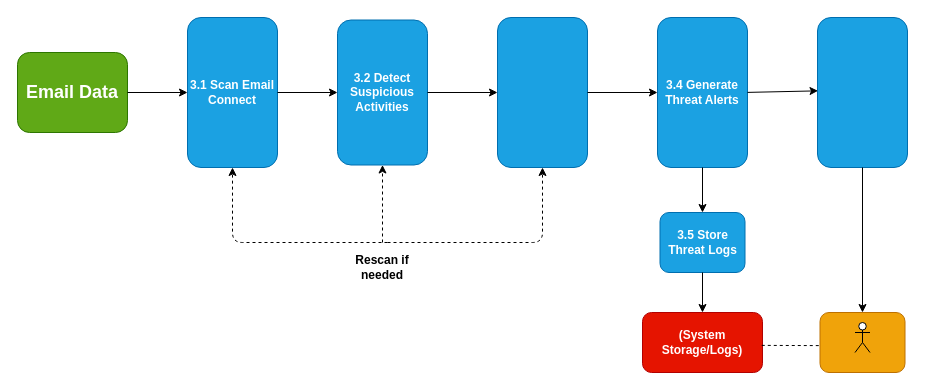
This 925x391 diagram has some shape labels left out. Here are the shapes that lost their labels. From the top down, the centre of each, then its label:
At (542,92): "3.3 Analyze Risk Level".
At (862,92): "3.6 Send Incident Reports".
At (862,337): "Administrator".
